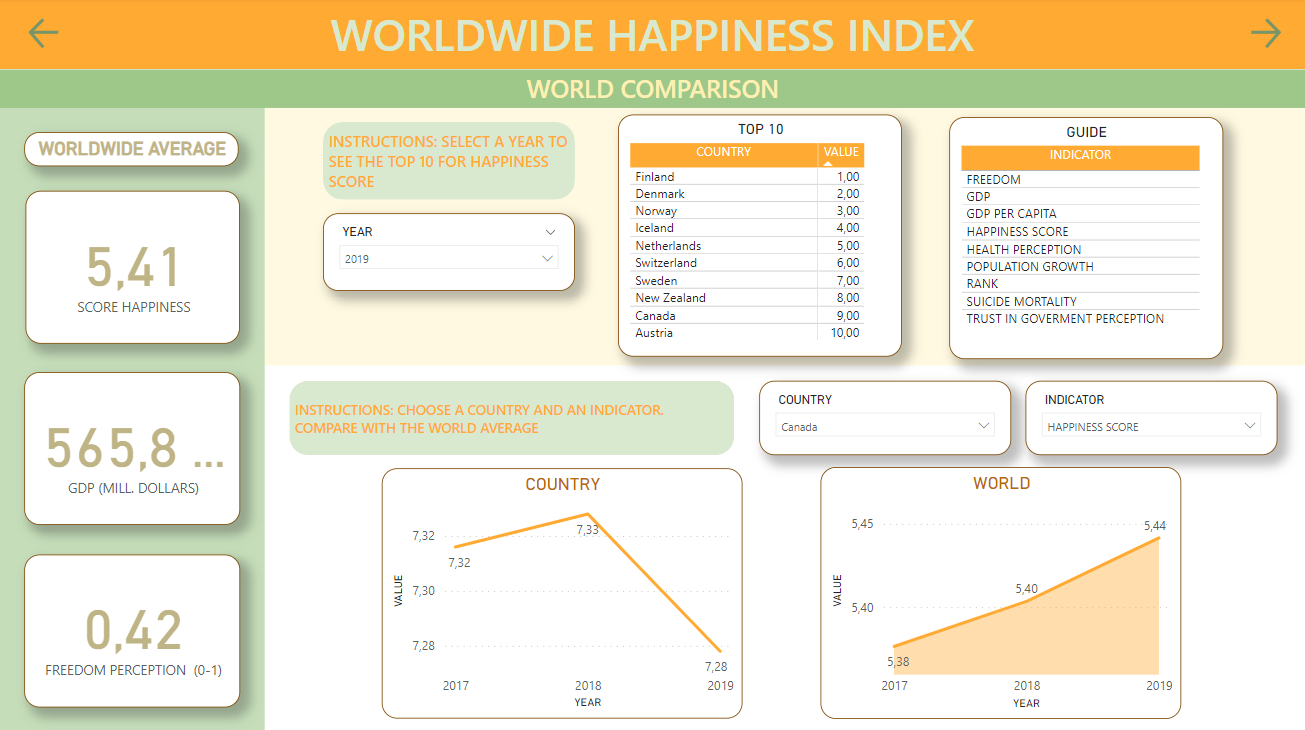

The page's visual inventory and layout, read from the dashboard file:
{"tool":"powerbi","page":{"name":"HAPPINESS INDICATORS","canvas":[1280,720],"ordinal":2},"visuals":[{"type":"shape","box":[260.7,108.1,1018.8,252.7],"z":0},{"type":"shape","box":[0,108.1,260.7,611.9],"z":1000},{"type":"shape","box":[0,0,1280,70.1],"z":2000},{"type":"shape","box":[0,70.4,1280.5,37.4],"z":3000},{"type":"lineChart","title":"COUNTRY","fields":{"Category":["HAPPINESS_INDEX.YEAR"],"Y":["Avg(HAPPINESS_INDEX.VALUE_HAPPINESS)"]},"box":[375.1,460.9,352.8,244.8],"z":4000},{"type":"card","fields":{"Values":["HAPPINESS_INDEX.AVERAGE_SCORE_ARGENTINA"]},"box":[27,189.1,209.8,149.4],"z":5000},{"type":"card","fields":{"Values":["HAPPINESS_INDEX.AVERAGE_GDP_WORLDWIDE"]},"box":[25.4,367.2,211.4,149.4],"z":6000},{"type":"card","fields":{"Values":["HAPPINESS_INDEX.AVERAGE_FREEDOM_WORLDWIDE"]},"box":[25.4,545.2,211.4,149.4],"z":7000},{"type":"slicer","fields":{"Values":["HAPPINESS_INDEX.COUNTRY"]},"box":[743.8,375.1,246.4,73.1],"z":8000},{"type":"slicer","fields":{"Values":["HAPPINESS_INDEX.HAPPINESS_INDICATOR.HAPPINESS_INDICATOR"]},"box":[1004.5,375.1,246.4,73.1],"z":9000},{"type":"slicer","fields":{"Values":["HAPPINESS_INDEX.YEAR"]},"box":[317.9,211.4,246.4,76.3],"z":10000},{"type":"slicer","fields":{"Values":["HAPPINESS_INDEX.ID_HAPPY_INDICATOR"]},"box":[676.2,175.9,103.6,70.4],"z":11000},{"type":"tableEx","title":"TOP 10","fields":{"Values":["HAPPINESS_INDEX.COUNTRY","HAPPINESS_INDEX.VALUE_HAPPINESS"]},"box":[605.8,115.3,277.5,236.5],"z":12000},{"type":"shape","box":[284.5,375.1,435.5,73.1],"z":13000},{"type":"areaChart","title":"WORLD","fields":{"Category":["HAPPINESS_INDEX.YEAR"],"Y":["Avg(HAPPINESS_INDEX.VALUE_HAPPINESS)"]},"box":[804.2,459.3,352.8,246.4],"z":14000},{"type":"tableEx","title":"GUIDE","fields":{"Values":["HAPPINESS_INDICATOR.HAPPINESS_INDICATOR"]},"box":[930.2,117.3,267.7,236.5],"z":15000},{"type":"shape","title":"WORLDWIDE AVERAGE","box":[25.4,131.9,209.8,33.4],"z":16000},{"type":"shape","box":[317.9,122.4,246.4,76.3],"z":17000},{"type":"actionButton","box":[25.4,15.6,99.7,39.1],"z":18000},{"type":"actionButton","box":[1158.8,15.6,99.7,39.1],"z":19000}]}

Visuals, with their boxes in screenshot pixels (x1, y1, x2, y2), scaled from the page's 1280x720 canvas onto the 1305x730 screenshot:
shape: (266,110,1304,366)
shape: (0,110,266,729)
shape: (0,0,1304,71)
shape: (0,71,1304,109)
"COUNTRY" lineChart: (382,467,742,716)
card - HAPPINESS_INDEX.AVERAGE_SCORE_ARGENTINA: (28,192,241,343)
card - HAPPINESS_INDEX.AVERAGE_GDP_WORLDWIDE: (26,372,241,524)
card - HAPPINESS_INDEX.AVERAGE_FREEDOM_WORLDWIDE: (26,553,241,704)
slicer - HAPPINESS_INDEX.COUNTRY: (758,380,1010,454)
slicer - HAPPINESS_INDEX.HAPPINESS_INDICATOR.HAPPINESS_INDICATOR: (1024,380,1275,454)
slicer - HAPPINESS_INDEX.YEAR: (324,214,575,292)
slicer - HAPPINESS_INDEX.ID_HAPPY_INDICATOR: (689,178,795,250)
"TOP 10" tableEx: (618,117,901,357)
shape: (290,380,734,454)
"WORLD" areaChart: (820,466,1180,716)
"GUIDE" tableEx: (948,119,1221,359)
"WORLDWIDE AVERAGE" shape: (26,134,240,168)
shape: (324,124,575,201)
actionButton: (26,16,128,55)
actionButton: (1181,16,1283,55)
